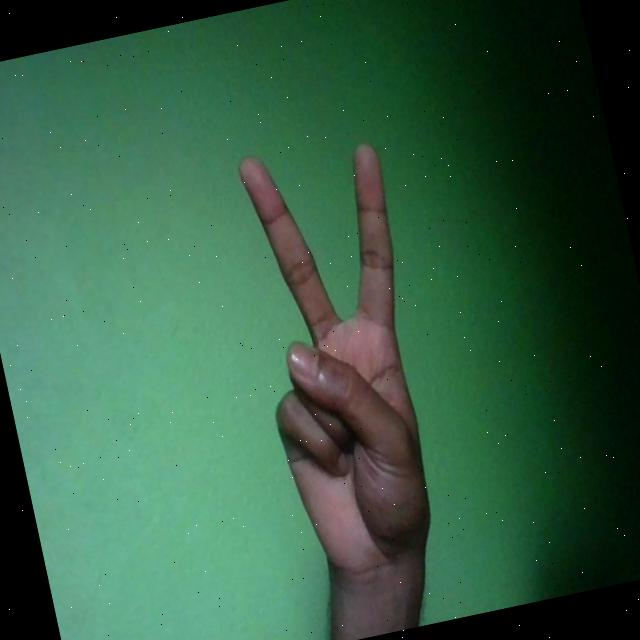Fist: (218, 128, 466, 595)
